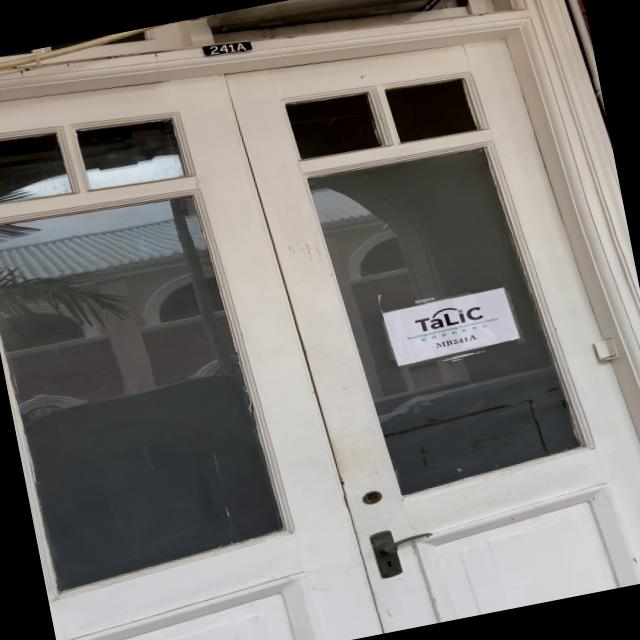room241a: (198, 35, 256, 63)
